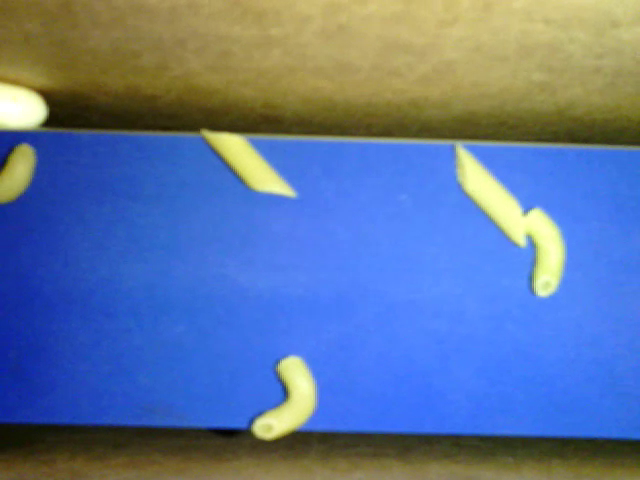elbow: (250, 354, 318, 441), (523, 206, 566, 298), (1, 143, 38, 203)
penne: (454, 143, 526, 247), (200, 128, 296, 197)
